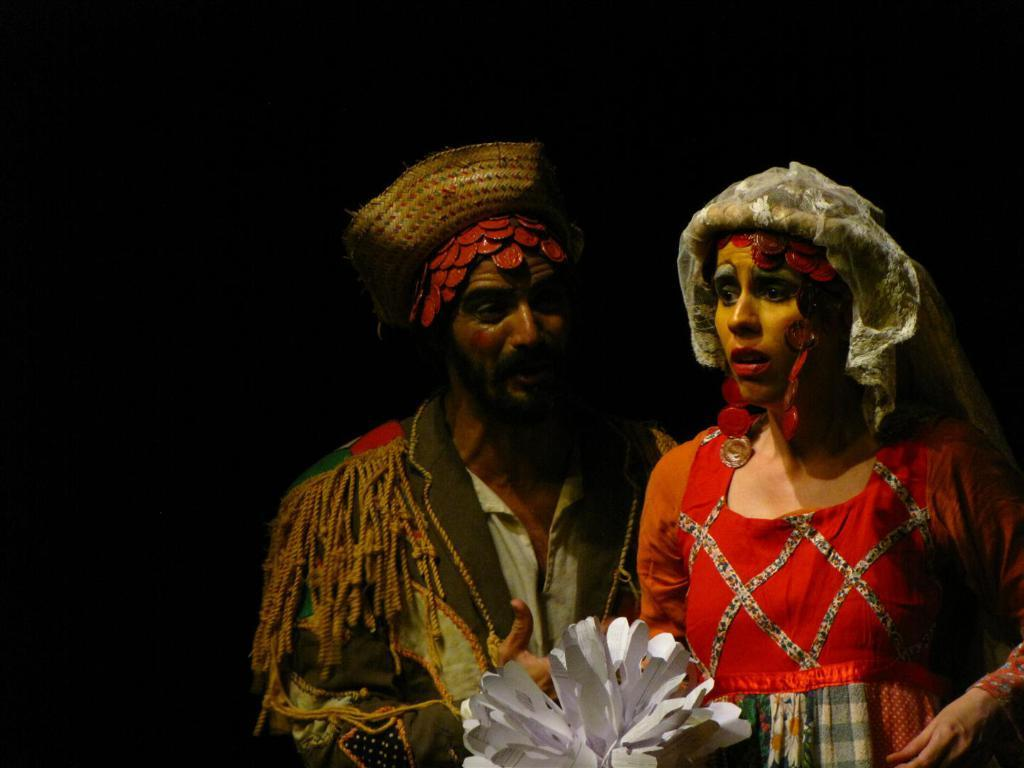Hat: (347, 143, 587, 341)
